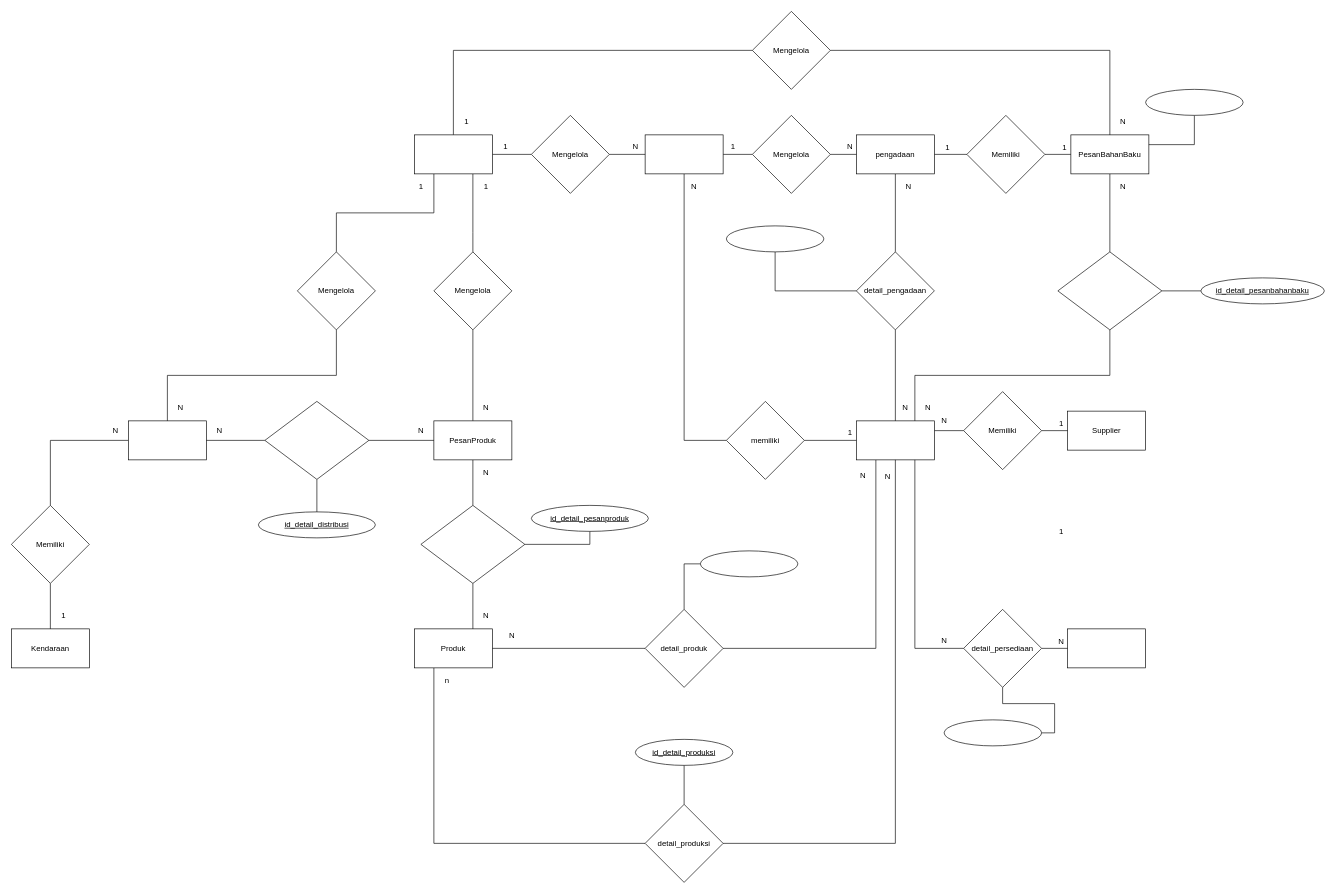
This 1336x894 diagram has some shape labels left out. Each missing label, with the centre of its shape:
"BahanBaku" belongs at [895,440].
"detail_distribusi" belongs at [316,440].
"detail_pesanbahanbaku" belongs at [1109,290].
"detail_pesanproduk" belongs at [472,544].
"Distribusi" belongs at [167,440].
"id_detail_pengadaan" belongs at [775,238].
"id_detail_persediaan" belongs at [992,732].
"id_detail_produk" belongs at [749,563].
"id_pesanan" belongs at [1194,102].
"peramalan" belongs at [683,154].
"Persediaan" belongs at [1106,648].
"User" belongs at [453,154].
